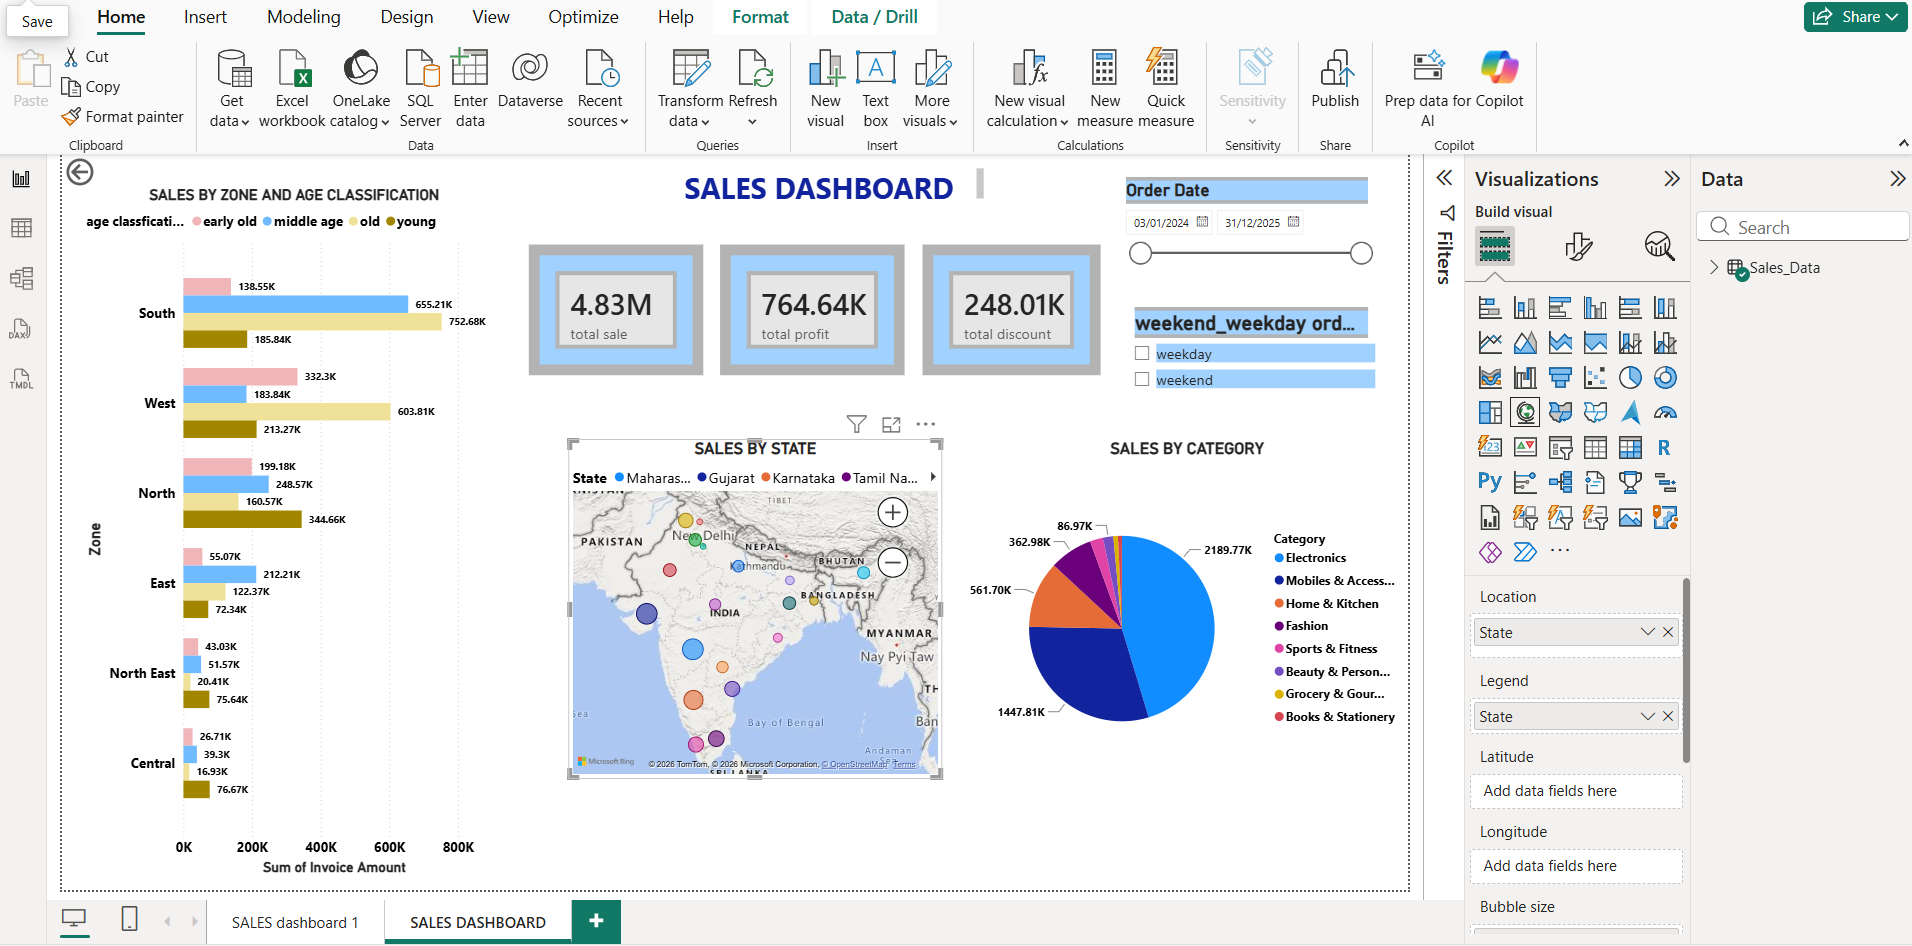

What the dashboard file says about the page in this screenshot:
{"tool":"powerbi","page":{"name":"SALES DASHBOARD","canvas":[1500,820],"ordinal":1},"visuals":[{"type":"map","title":"SALES BY STATE","fields":{"Category":["Sales_Data.State"],"Series":["Sales_Data.State"],"Size":["Sum(Sales_Data.Invoice Amount)"]},"box":[564.1,317.5,417,378.8],"z":0},{"type":"pieChart","title":"SALES BY CATEGORY","fields":{"Category":["Sales_Data.Category"],"Y":["Sum(Sales_Data.Invoice Amount)"]},"box":[1007,317.5,493.3,402],"z":1000},{"type":"clusteredBarChart","title":"SALES BY ZONE AND AGE CLASSIFICATION","fields":{"Category":["Sales_Data.Zone","Sales_Data.age classfication"],"Series":["Sales_Data.age classfication"],"Y":["Sum(Sales_Data.Invoice Amount)"]},"box":[21.8,35.4,472.8,772.6],"z":2000},{"type":"actionButton","box":[0,0,100,40],"z":3000},{"type":"textbox","box":[662.2,10.9,369.3,47.7],"z":4000},{"type":"slicer","fields":{"Values":["Sales_Data.Order Date"]},"box":[1173.2,20.4,295.7,177.1],"z":5000},{"type":"slicer","fields":{"Values":["Sales_Data.weekend_weekday order"]},"box":[1182.8,166.2,286.2,110.4],"z":6000},{"type":"cardVisual","fields":{"Data":["Sales_Data.total profit"]},"box":[729,96.7,215.3,155.3],"z":7000},{"type":"cardVisual","fields":{"Data":["Sales_Data.total sale"]},"box":[515.1,96.7,204.4,155.3],"z":8000},{"type":"cardVisual","fields":{"Data":["Sales_Data.total discount"]},"box":[953.9,96.7,208.5,155.3],"z":9000}]}

Visuals, with their boxes on the page's 1500x820 design canvas (x1, y1, x2, y2). These are canvas units, not pixel positions in the 1912x946 screenshot, which may show the page scaled, cropped or inside an application window:
"SALES BY STATE" map: Rect(564, 318, 981, 696)
"SALES BY CATEGORY" pieChart: Rect(1007, 318, 1500, 720)
"SALES BY ZONE AND AGE CLASSIFICATION" clusteredBarChart: Rect(22, 35, 495, 808)
actionButton: Rect(0, 0, 100, 40)
textbox: Rect(662, 11, 1032, 59)
slicer - Sales_Data.Order Date: Rect(1173, 20, 1469, 198)
slicer - Sales_Data.weekend_weekday order: Rect(1183, 166, 1469, 277)
cardVisual - Sales_Data.total profit: Rect(729, 97, 944, 252)
cardVisual - Sales_Data.total sale: Rect(515, 97, 720, 252)
cardVisual - Sales_Data.total discount: Rect(954, 97, 1162, 252)
